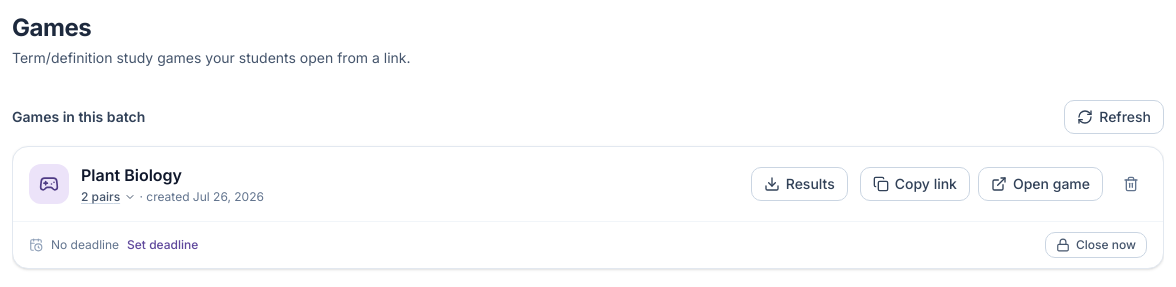
Test case: Games page › closes a live game on request and reflects the new state
Expected: the heading "Plant Biology" is shown, [81,163,182,187]
Click the button "Close now": (1096, 245) [1045,232,1147,258]
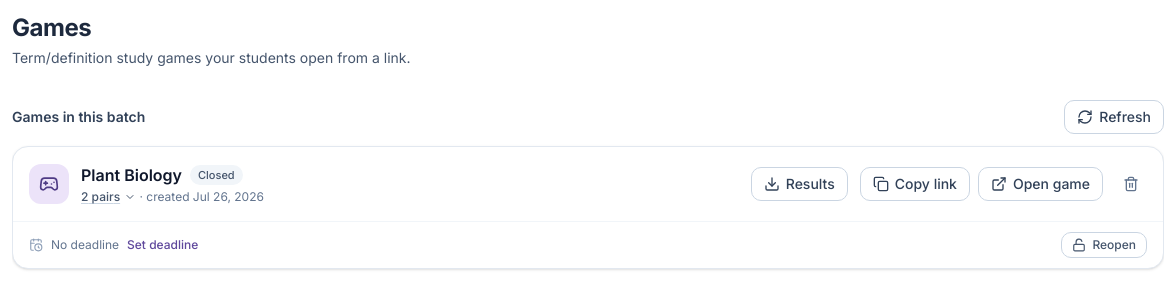
Expected: the text "Closed" is shown, [190,165,243,185]
Expected: the button "Reopen" is shown, [1061,232,1147,258]
